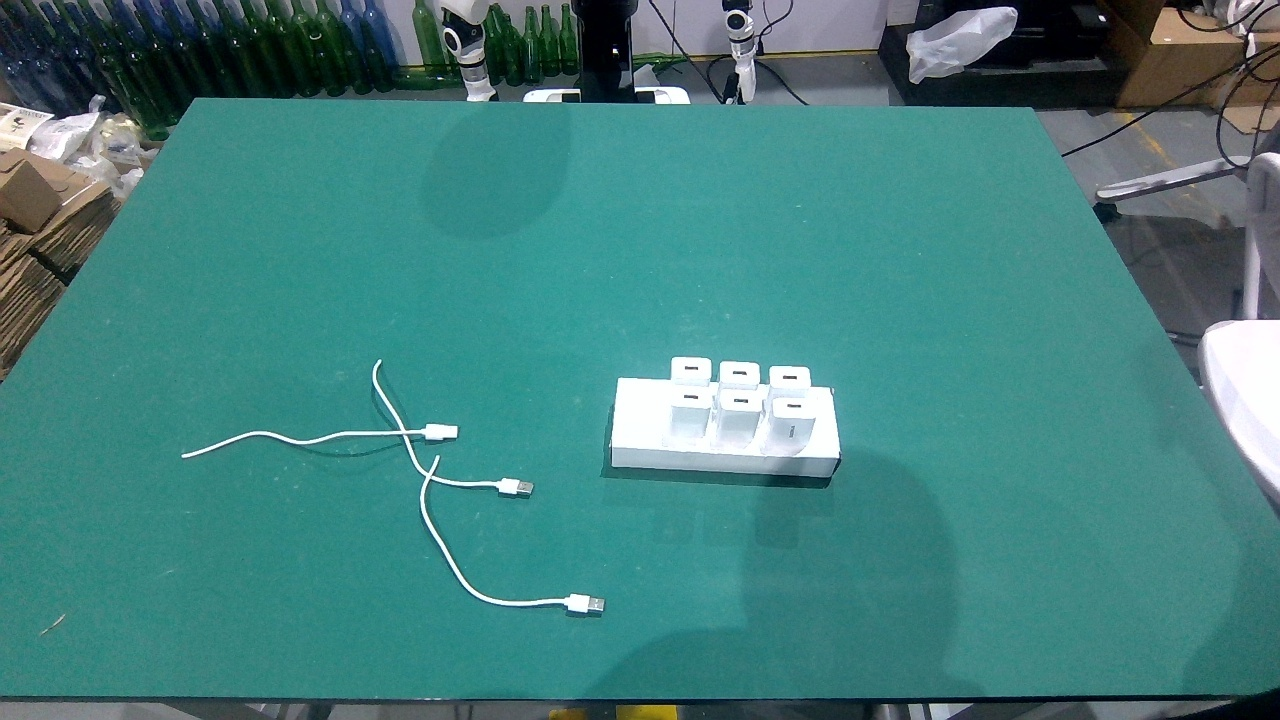usb_a_port: (682, 363, 700, 373), (730, 368, 748, 378), (732, 396, 750, 406), (681, 393, 700, 402), (785, 402, 803, 411), (781, 374, 800, 382)
